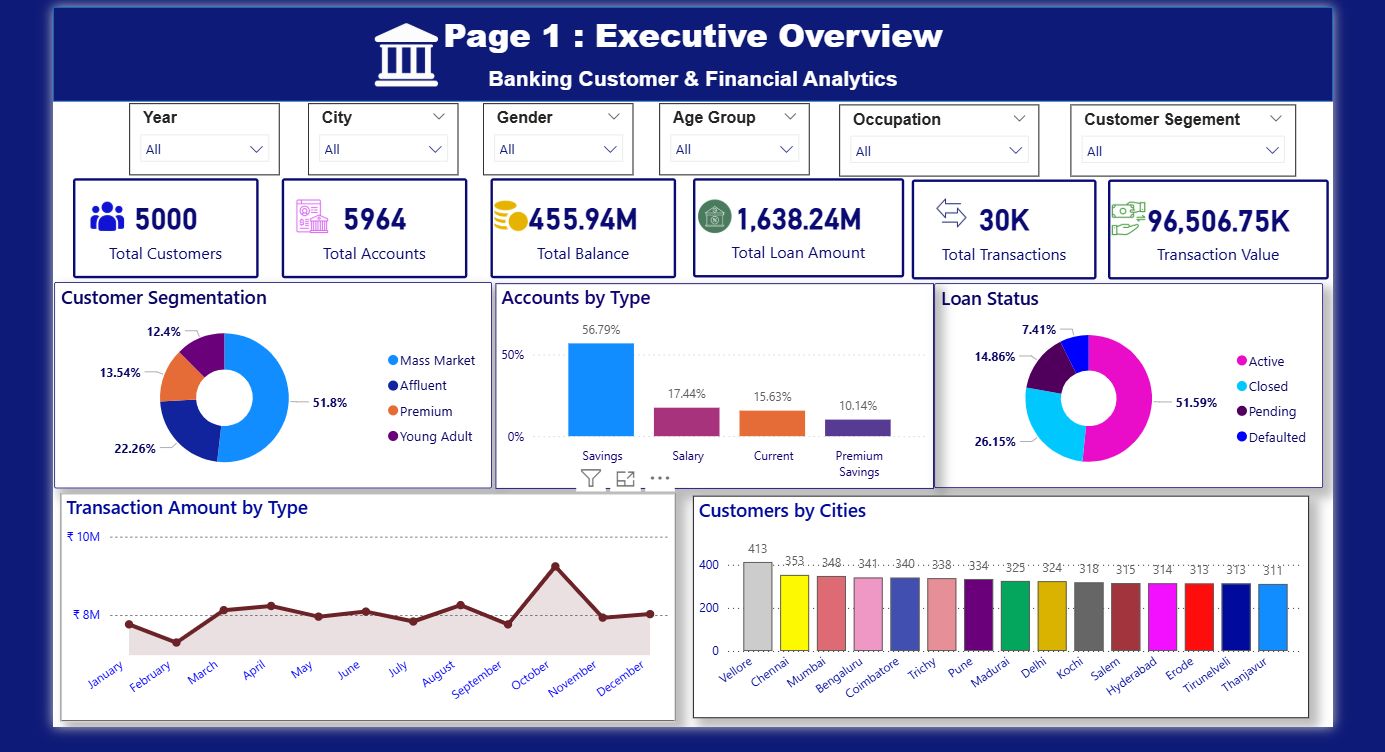

This screenshot's page, from the dashboard's own definition file:
{"tool":"powerbi","page":{"name":"Executive Overview","canvas":[1280,720],"ordinal":0},"visuals":[{"type":"shape","box":[0,0,1280,94.7],"z":0},{"type":"textbox","box":[0,0,1280.3,55],"z":1000},{"type":"textbox","box":[0,55,1280.3,40.4],"z":2000},{"type":"image","box":[304.5,15.9,96.6,63.6],"z":3000},{"type":"slicer","title":"Month","fields":{"Values":["customers_cleaned.signup_date.Variation.Date Hierarchy.Year"]},"box":[76.1,95.8,150.7,71.8],"z":4000},{"type":"slicer","title":"Month","fields":{"Values":["customers_cleaned.city"]},"box":[254.9,95.8,150.7,71.8],"z":5000},{"type":"slicer","title":"Month","fields":{"Values":["customers_cleaned.gender"]},"box":[429.6,95.8,150.7,71.8],"z":6000},{"type":"slicer","title":"Month","fields":{"Values":["customers_cleaned.age_group"]},"box":[605.6,95.8,150.7,71.8],"z":7000},{"type":"slicer","title":"Month","fields":{"Values":["customers_cleaned.occupation"]},"box":[785.9,97.2,200,71.8],"z":8000},{"type":"slicer","title":"Month","fields":{"Values":["customers_cleaned.customer_segment"]},"box":[1016.9,97.2,225.4,71.8],"z":9000},{"type":"card","fields":{"Values":["customers_cleaned.Total Customers"]},"box":[20.3,170.8,185.5,100],"z":10000},{"type":"card","fields":{"Values":["accounts_cleaned.Total Accounts"]},"box":[229,170.8,185.5,100],"z":11000},{"type":"card","fields":{"Values":["accounts_cleaned.Total Balance"]},"box":[437.7,170.8,185.5,100],"z":12000},{"type":"card","fields":{"Values":["loans_cleaned.Total Loans"]},"box":[639.4,171.3,211.1,98.9],"z":13000},{"type":"card","fields":{"Values":["transactions_cleaned.Total Transactions"]},"box":[859,172.3,185,100],"z":14000},{"type":"card","fields":{"Values":["transactions_cleaned.Transaction Value"]},"box":[1054.4,172.5,220.8,100.1],"z":15000},{"type":"image","box":[37.7,192.8,33.3,33.3],"z":16000},{"type":"image","box":[242,192.9,33.3,33.3],"z":17000},{"type":"image","box":[441.6,191.8,33.8,35],"z":18000},{"type":"image","box":[880.6,188.4,34,34],"z":19000},{"type":"image","box":[1059.3,194.2,33.8,35],"z":20000},{"type":"donutChart","title":"Customer Segmentation","fields":{"Category":["customers_cleaned.customer_segment"],"Y":["CountNonNull(customers_cleaned.customer_id)"]},"box":[1.3,275.4,437.9,206.3],"z":21000},{"type":"clusteredColumnChart","title":"Accounts by Type","fields":{"Y":["CountNonNull(accounts_cleaned.account_id)"],"Category":["accounts_cleaned.account_type"]},"box":[442.7,276.5,438.7,205.3],"z":22000},{"type":"donutChart","title":"Loan Status","fields":{"Category":["loans_cleaned.loan_status"],"Y":["CountNonNull(loans_cleaned.loan_id)"]},"box":[880.7,276.3,388.5,205.1],"z":23000},{"type":"lineChart","title":"Transaction Amount by Type","fields":{"Y":["Sum(transactions_cleaned.transaction_amount)"],"Category":["transactions_cleaned.transaction_date.Variation.Date Hierarchy.Month"]},"box":[7.7,486.4,614.9,228.4],"z":24000},{"type":"columnChart","title":"Customers by Cities","fields":{"Y":["CountNonNull(customers_cleaned.customer_id)"],"Category":["customers_cleaned.city"]},"box":[640.3,489,616,222.7],"z":25000},{"type":"image","box":[645.4,193,33.8,33.8],"z":26000}]}

Visuals, with their boxes on the page's 1280x720 design canvas (x1, y1, x2, y2). These are canvas units, not pixel positions in the 1385x752 screenshot, which may show the page scaled, cropped or inside an application window:
shape: crop(0, 0, 1280, 95)
textbox: crop(0, 0, 1280, 55)
textbox: crop(0, 55, 1280, 95)
image: crop(304, 16, 401, 80)
"Month" slicer: crop(76, 96, 227, 168)
"Month" slicer: crop(255, 96, 406, 168)
"Month" slicer: crop(430, 96, 580, 168)
"Month" slicer: crop(606, 96, 756, 168)
"Month" slicer: crop(786, 97, 986, 169)
"Month" slicer: crop(1017, 97, 1242, 169)
card - customers_cleaned.Total Customers: crop(20, 171, 206, 271)
card - accounts_cleaned.Total Accounts: crop(229, 171, 414, 271)
card - accounts_cleaned.Total Balance: crop(438, 171, 623, 271)
card - loans_cleaned.Total Loans: crop(639, 171, 850, 270)
card - transactions_cleaned.Total Transactions: crop(859, 172, 1044, 272)
card - transactions_cleaned.Transaction Value: crop(1054, 172, 1275, 273)
image: crop(38, 193, 71, 226)
image: crop(242, 193, 275, 226)
image: crop(442, 192, 475, 227)
image: crop(881, 188, 915, 222)
image: crop(1059, 194, 1093, 229)
"Customer Segmentation" donutChart: crop(1, 275, 439, 482)
"Accounts by Type" clusteredColumnChart: crop(443, 276, 881, 482)
"Loan Status" donutChart: crop(881, 276, 1269, 481)
"Transaction Amount by Type" lineChart: crop(8, 486, 623, 715)
"Customers by Cities" columnChart: crop(640, 489, 1256, 712)
image: crop(645, 193, 679, 227)
